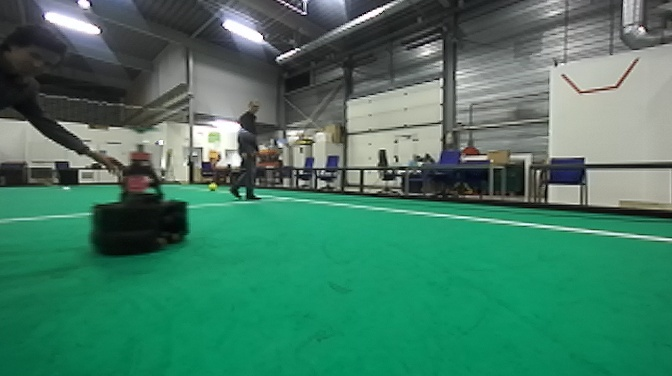ball: (207, 181, 217, 192)
human: (231, 100, 265, 206)
robot: (88, 116, 193, 257)
